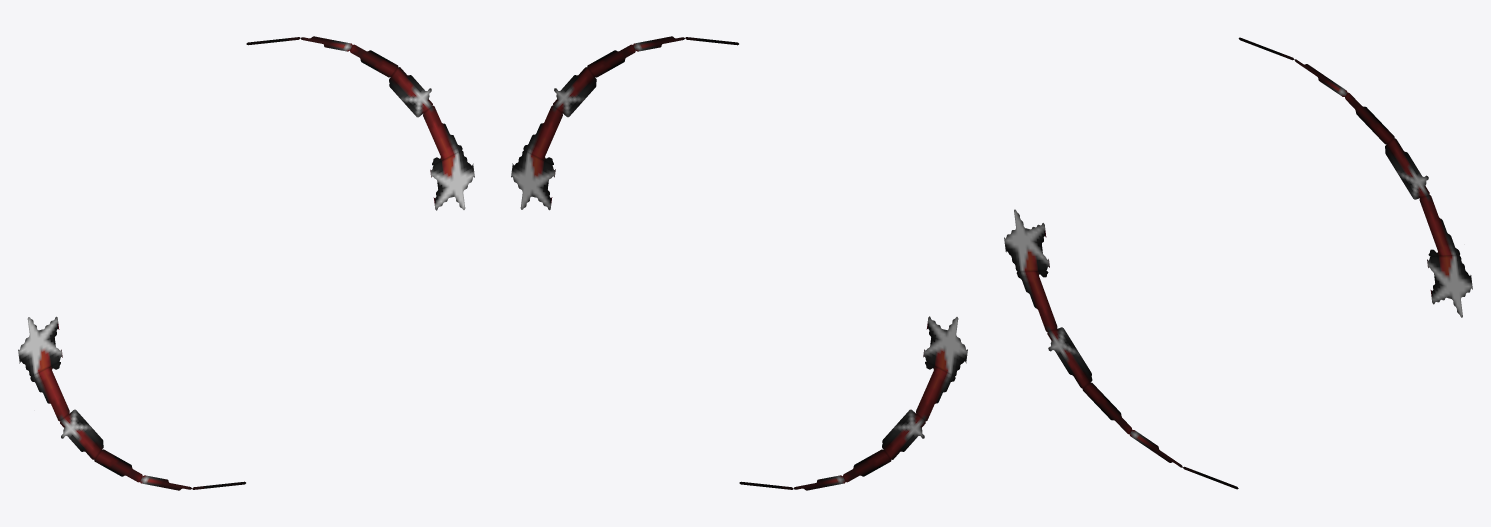
3 renders of one model, left to right at view 1: azimuth 30°, elevation 25°; view 2: azimuth 150°, elevation 25°; view 3: azimuth 330°, elevation 25°, orthographic. The views are drawn at different scales.
Parts seen in each view (by area): view 1: T1L4M001_31; view 2: T1L4M001_31; view 3: T1L4M001_31.
Boxes of the visible parts, <box> form: T1L4M001_31: <box>18,36,474,490</box>; T1L4M001_31: <box>511,36,967,490</box>; T1L4M001_31: <box>1004,37,1472,489</box>.
Size of the model in its own units: 2.06 by 2.06 by 0.000977.
